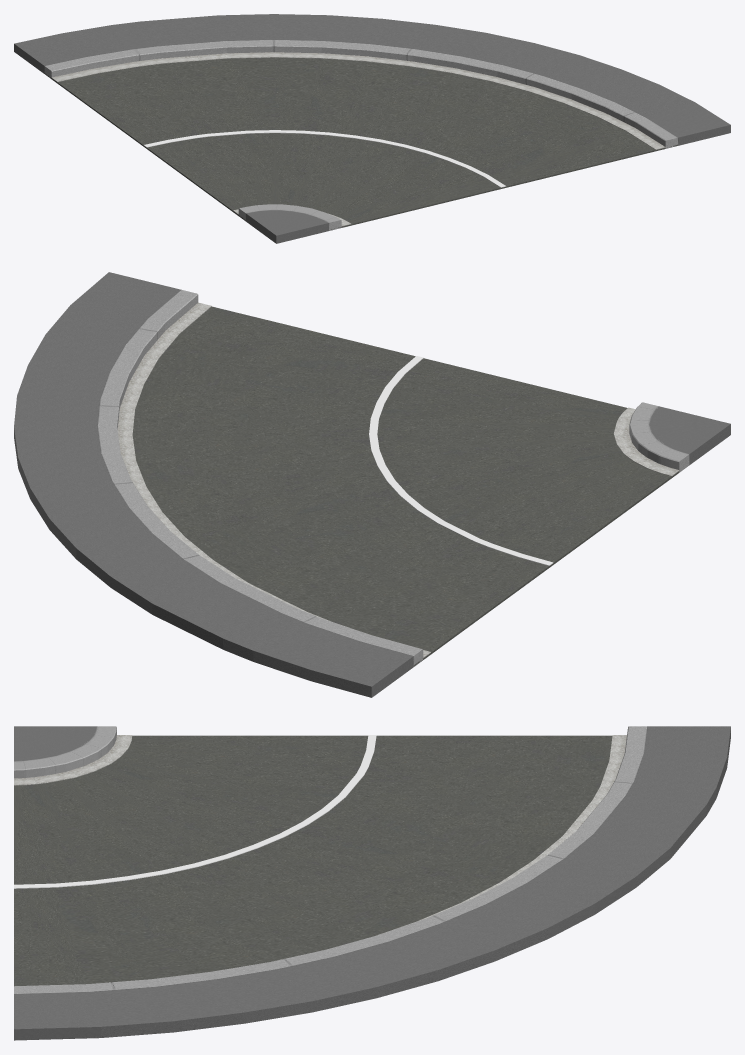
Rendered from sweethome3d-scopia-curved-road-2-lanes-90.glb.
3 renders of one model, top to bottom at view 1: azimuth 30°, elevation 25°; view 2: azimuth 150°, elevation 25°; view 3: azimuth 270°, elevation 25°, orthographic. The views are drawn at different scales.
Parts seen in each view (by area): view 1: routeCourbe2VoiesAvecTrottoirs90degrees_Plane.75deg_routeCou, routeCourbe2VoiesAvecTrottoirs90degrees_Plane.15deg; view 2: routeCourbe2VoiesAvecTrottoirs90degrees_Plane.75deg_routeCou, routeCourbe2VoiesAvecTrottoirs90degrees_Plane.15deg; view 3: routeCourbe2VoiesAvecTrottoirs90degrees_Plane.75deg_routeCou, routeCourbe2VoiesAvecTrottoirs90degrees_Plane.15deg.
Boxes of the visible parts, x1,y1,x2,y2 form: routeCourbe2VoiesAvecTrottoirs90degrees_Plane.75deg_routeCou: (140,14,730,243); routeCourbe2VoiesAvecTrottoirs90degrees_Plane.15deg: (14,21,276,243); routeCourbe2VoiesAvecTrottoirs90degrees_Plane.75deg_routeCou: (14,272,730,649); routeCourbe2VoiesAvecTrottoirs90degrees_Plane.15deg: (223,424,730,697); routeCourbe2VoiesAvecTrottoirs90degrees_Plane.75deg_routeCou: (14,726,706,1040); routeCourbe2VoiesAvecTrottoirs90degrees_Plane.15deg: (15,726,730,815).
Size of the model in its own units: 1045 by 18 by 1045.
16 materials, 14 textured.
